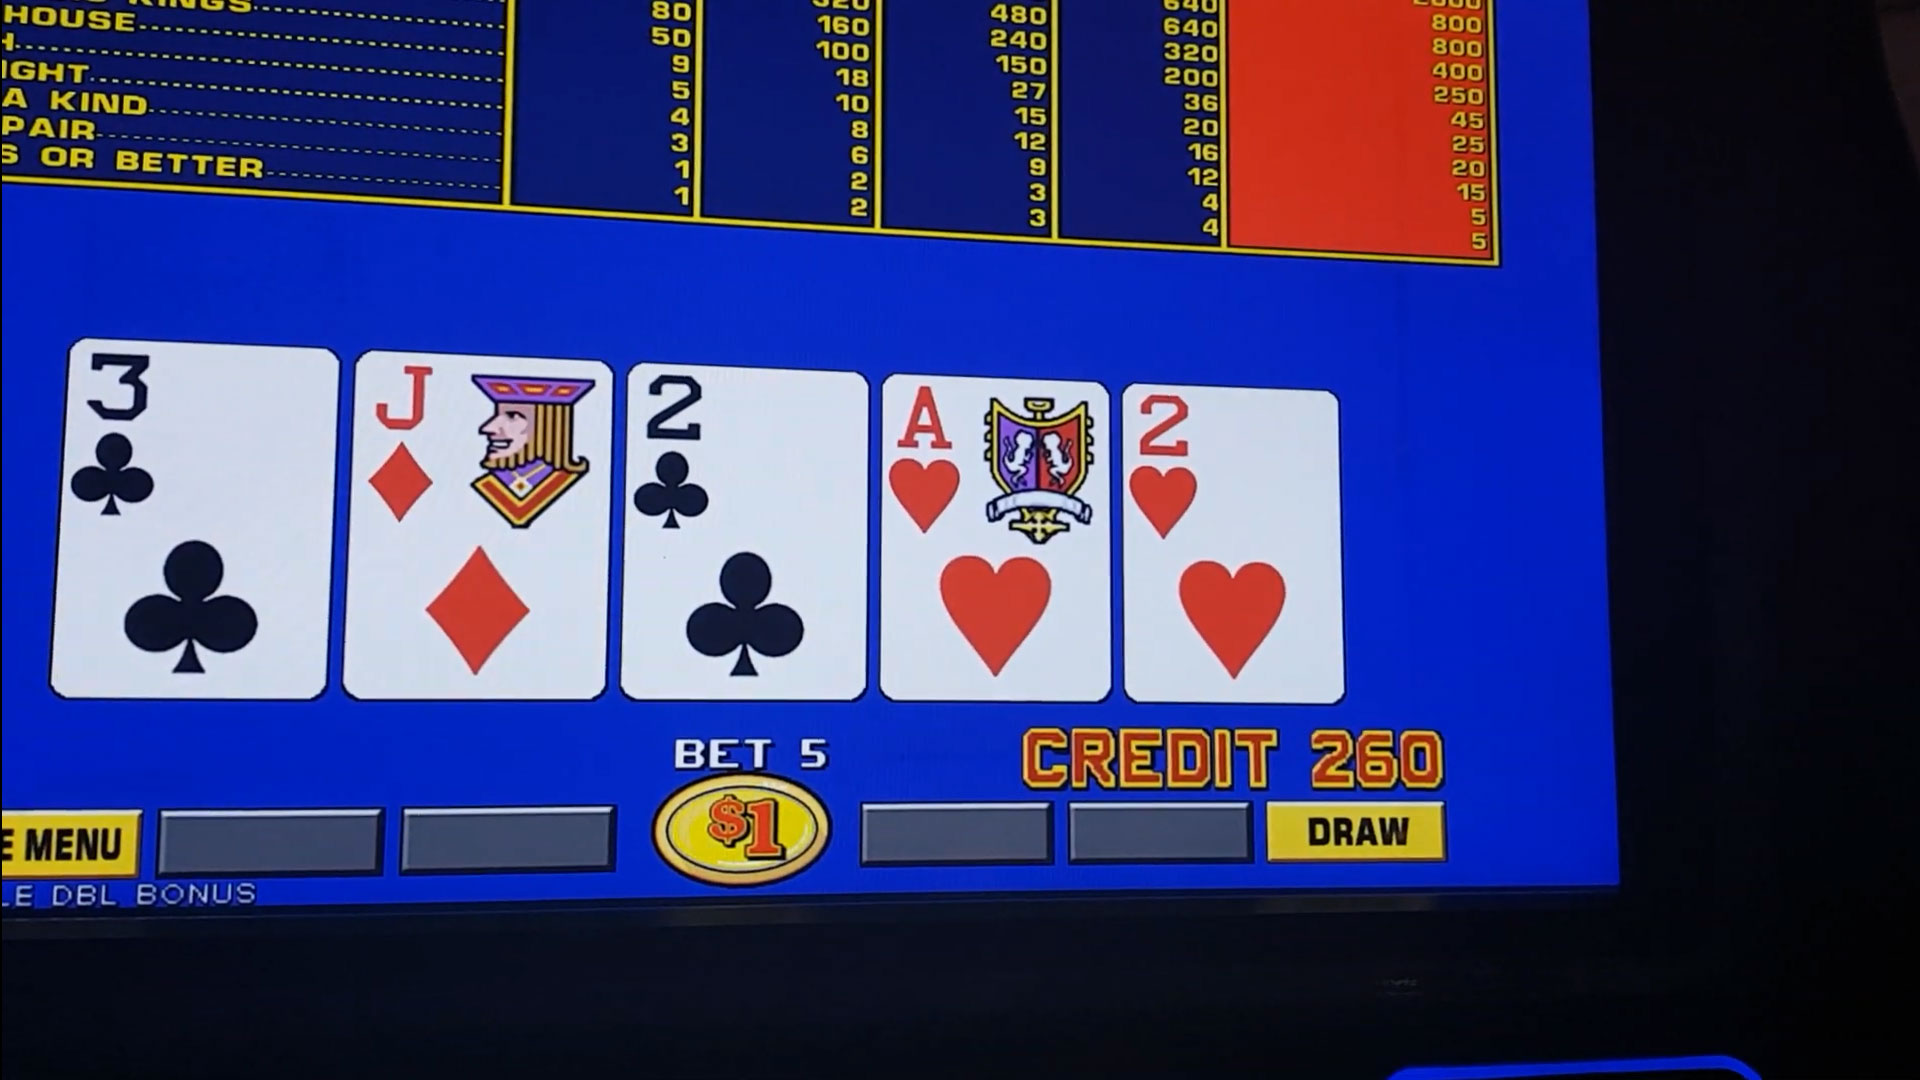C2: (632, 375, 864, 541)
C3: (73, 345, 338, 541)
DJ: (356, 364, 607, 547)
H2: (1131, 392, 1329, 549)
HA: (887, 390, 1105, 545)
